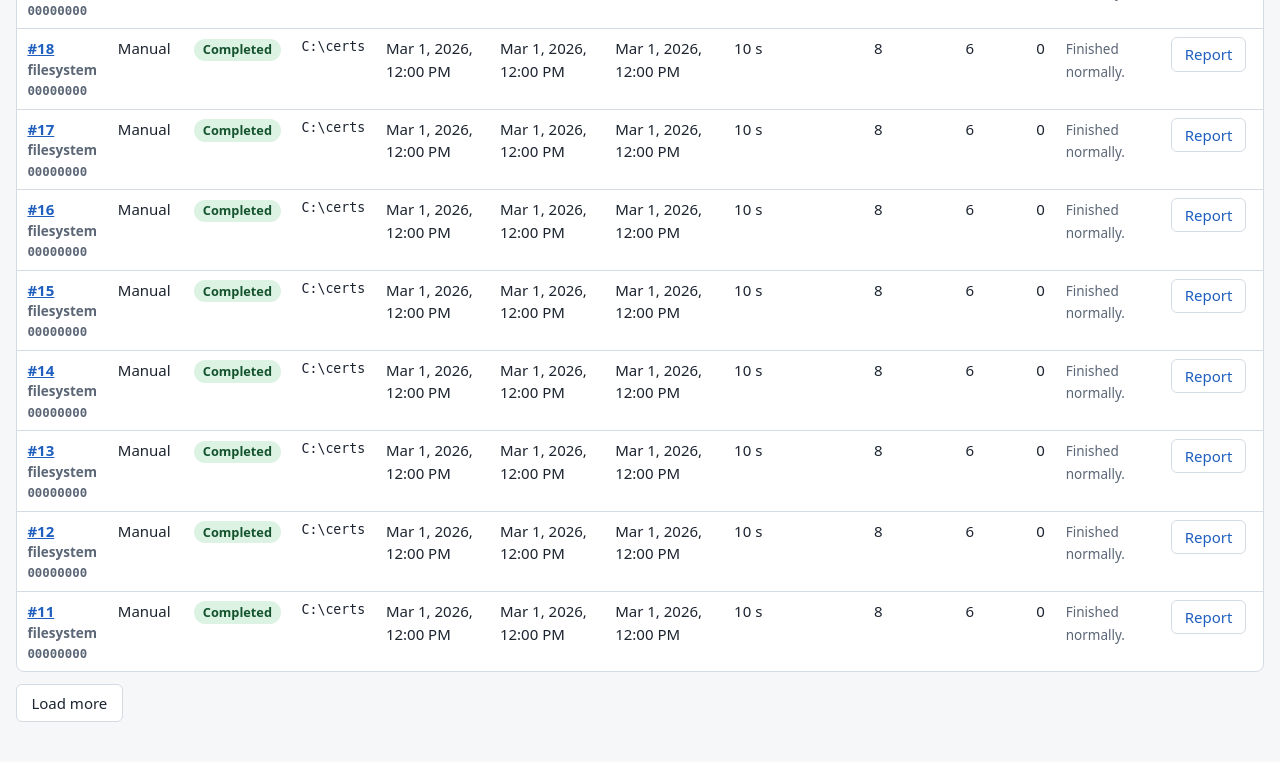
Test: listing › loads further pages by offset and never shows a run twice
The width and height of the screenshot is (1280, 762).
(page scrolled)
Click the button "Load more" at [69, 703], box [16,684,123,722]
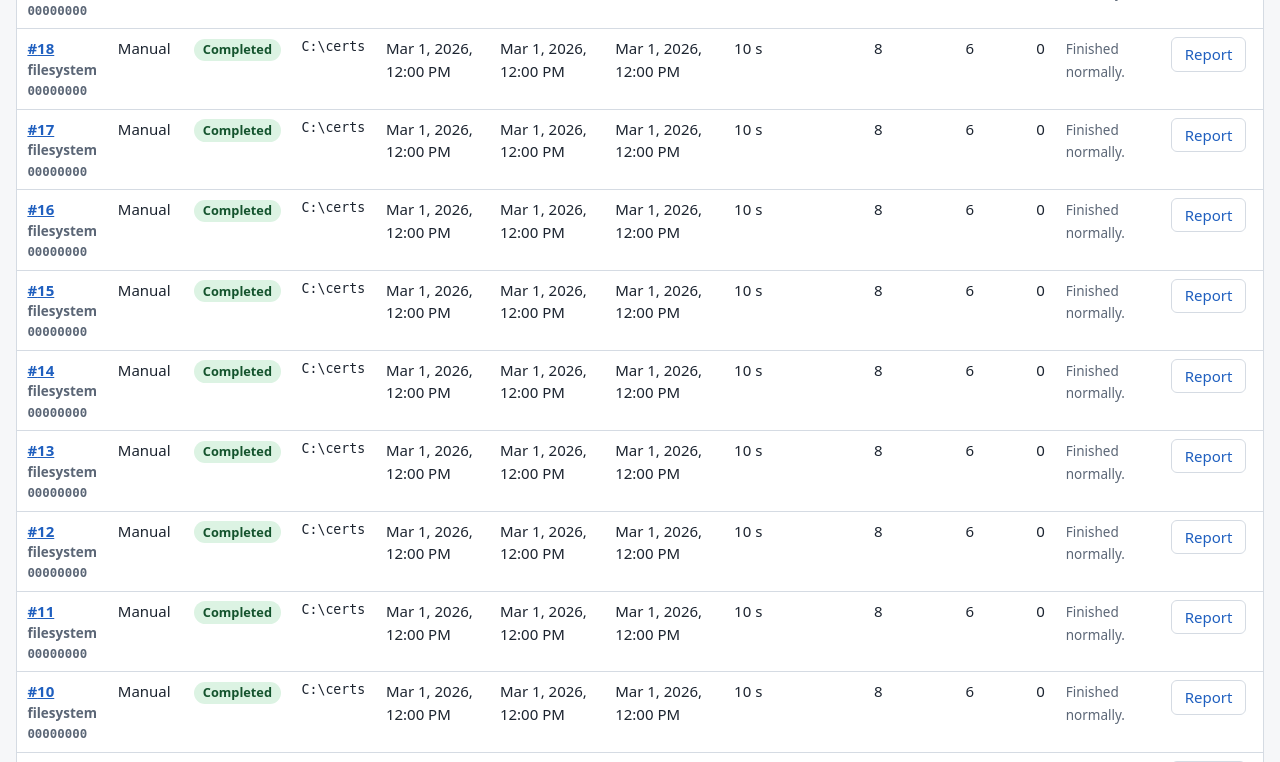
Result: the button "Load more" is gone
